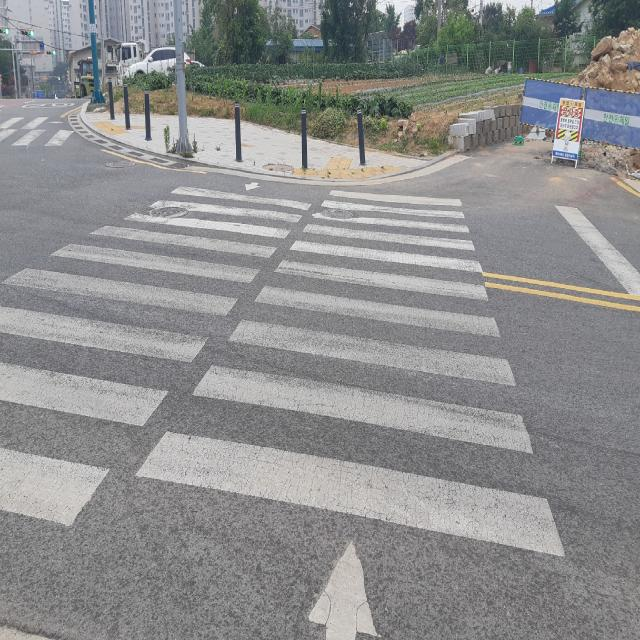횡단보도: (0, 183, 566, 639), (0, 115, 86, 149)
